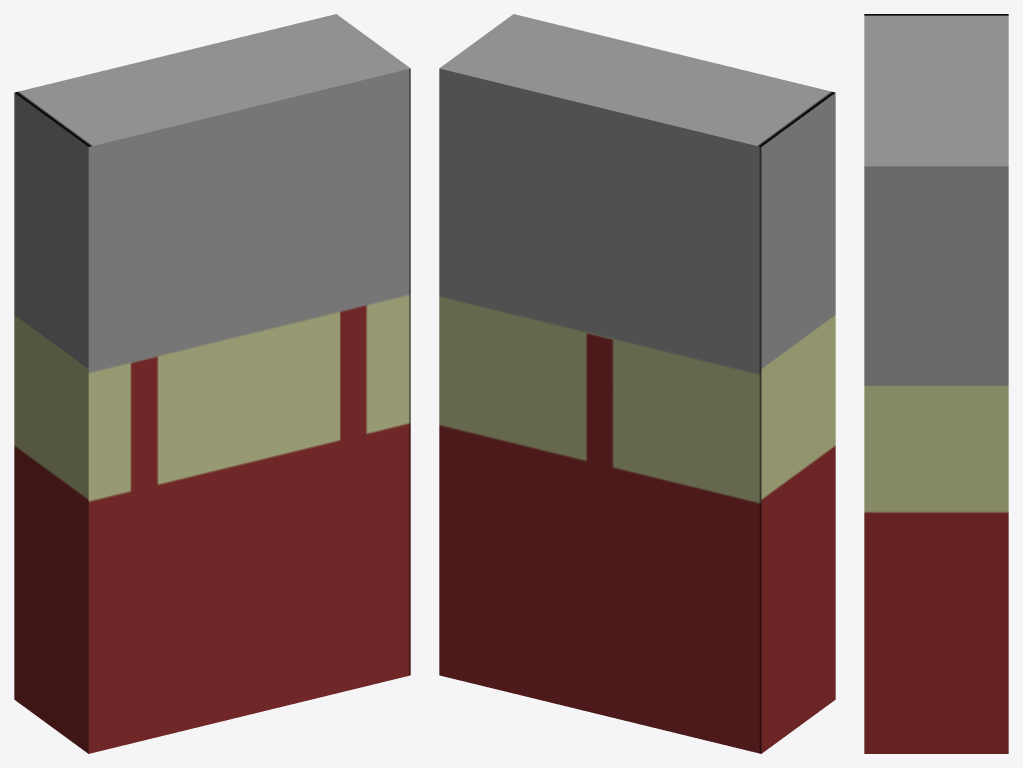
The model's file is Worker1.FBX.
3 renders of one model, left to right at view 1: azimuth 30°, elevation 25°; view 2: azimuth 150°, elevation 25°; view 3: azimuth 270°, elevation 25°, orthographic. The views are drawn at different scales.
Parts seen in each view (by area): view 1: Box001; view 2: Box001; view 3: Box001.
Part boxes in pixels (x1,y1,x2,y2): Box001: (14,14,410,753); Box001: (439,14,835,753); Box001: (864,14,1008,753).
Bounding box in the file's own units: 100 × 180 × 40.
1 material, 1 textured.
